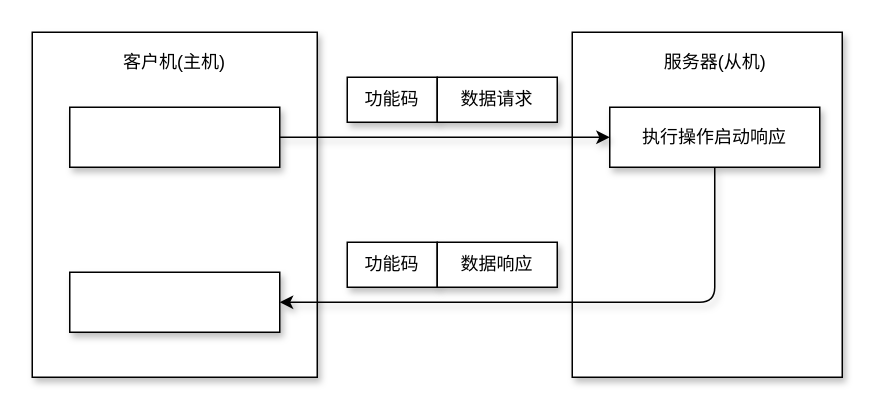
Image size: 878x414. Some labels were removed from this diagram. The centre of each missing label's shape, as x and y in pixels:
"启动请求" goes at point (175, 139).
"接受响应" goes at point (175, 304).
